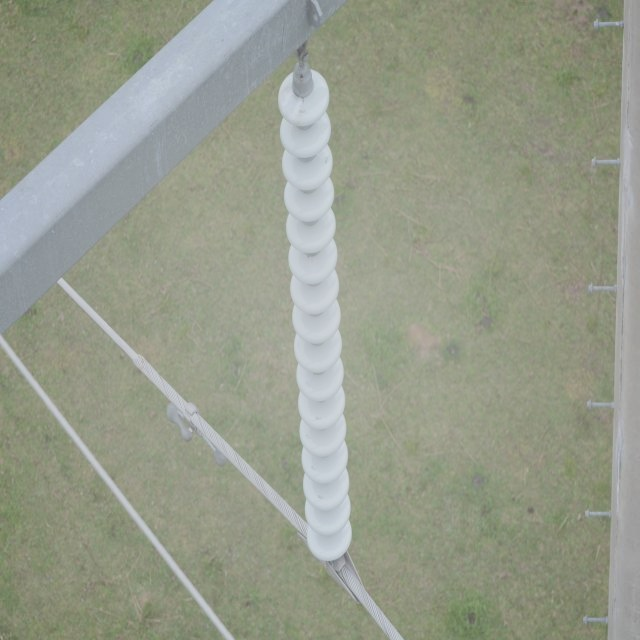insulator: (278, 71, 352, 565)
